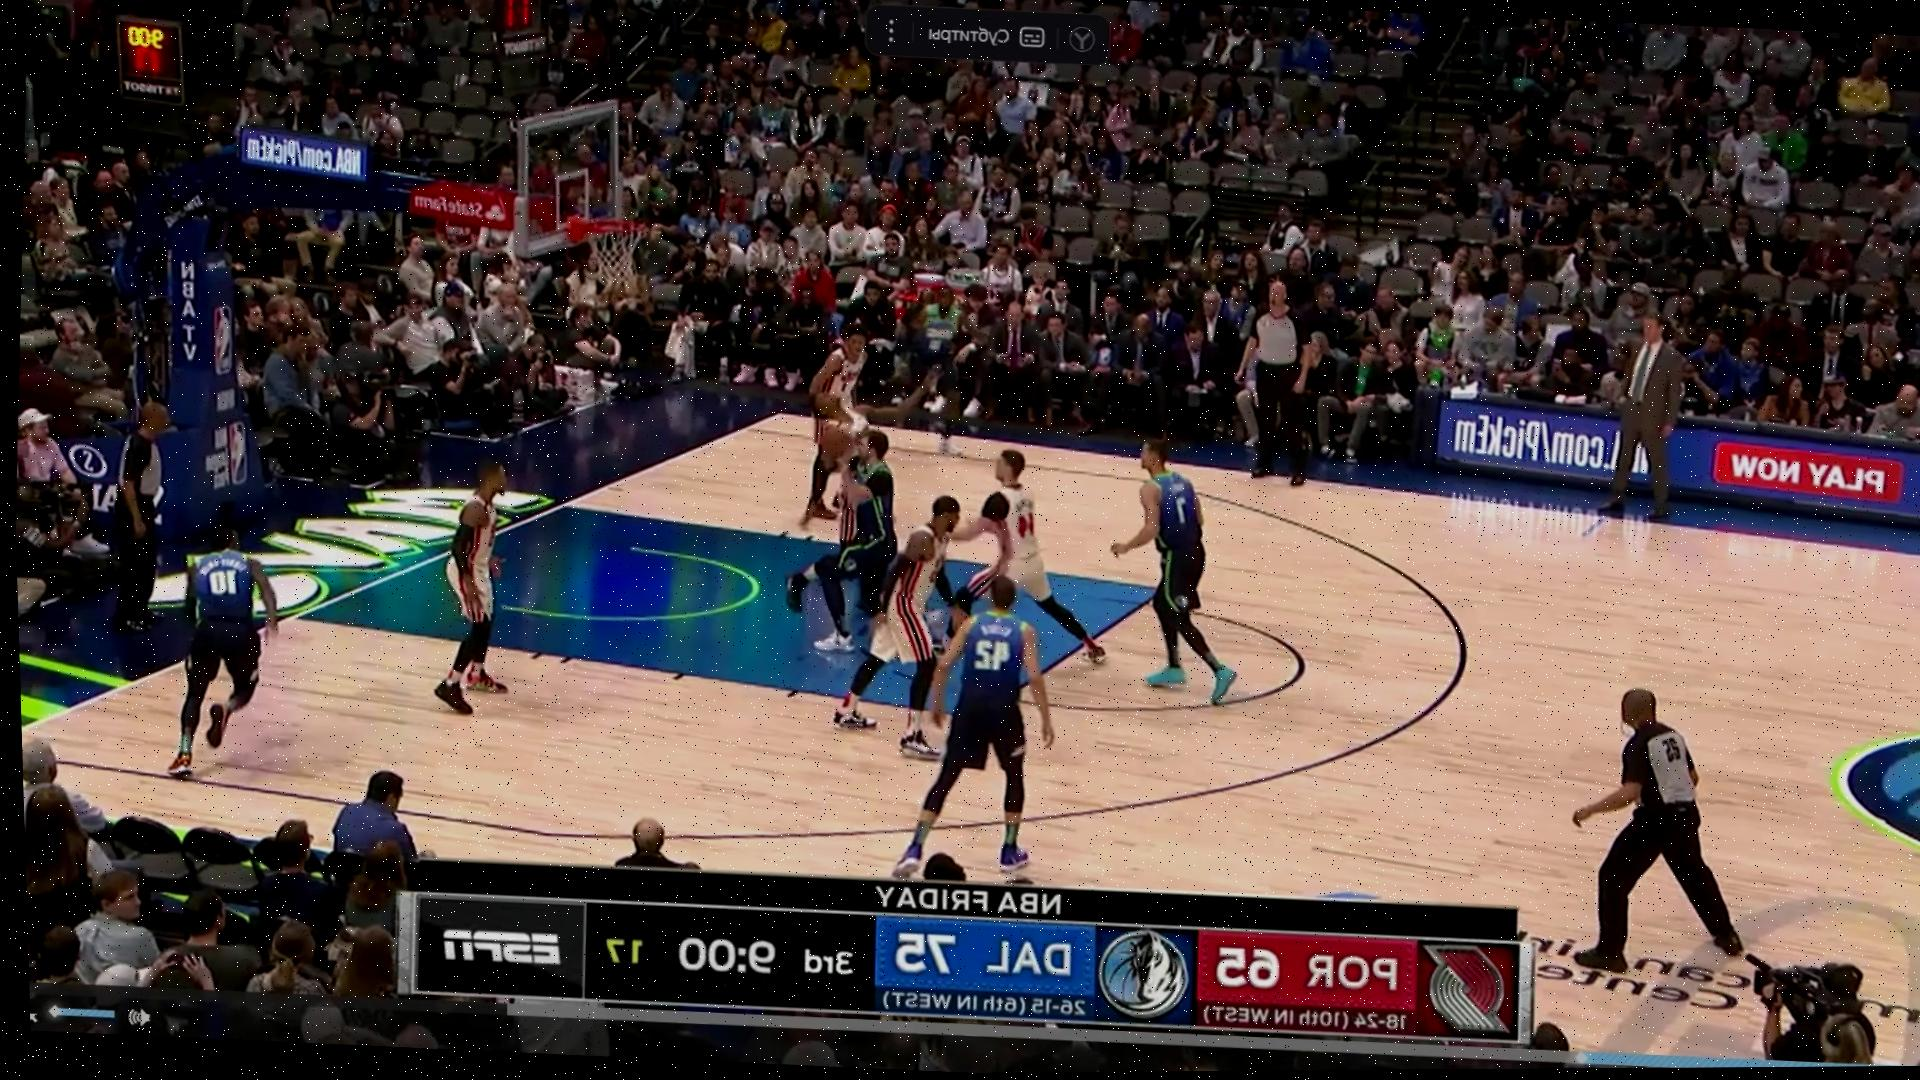foul: (771, 405, 939, 645)
